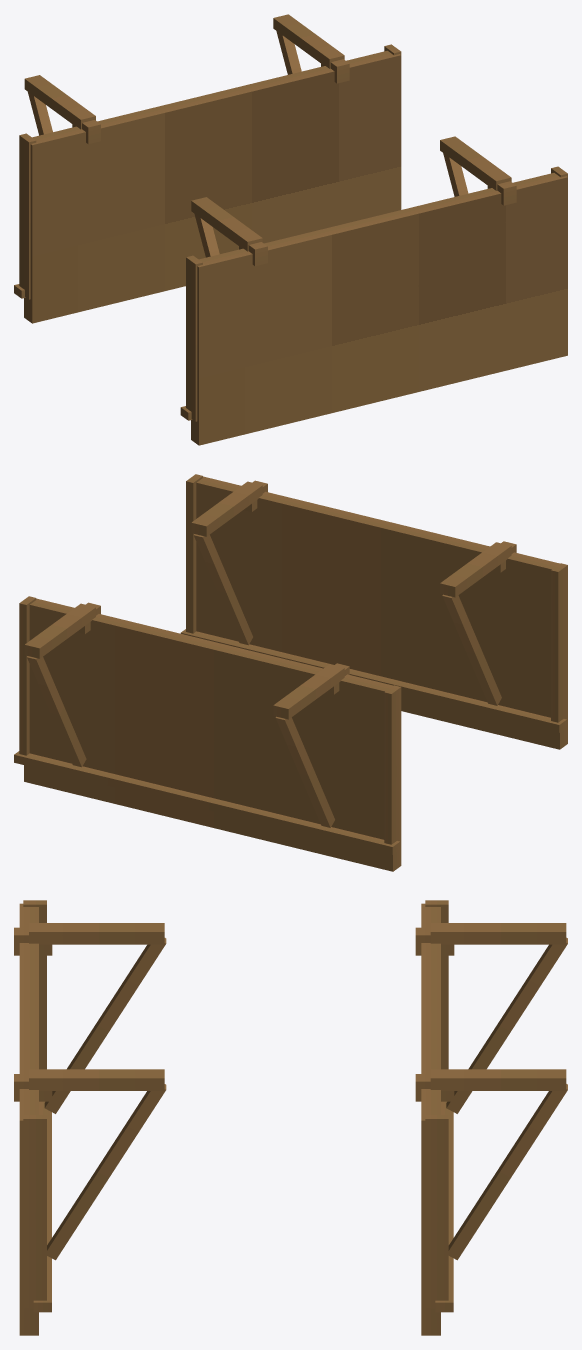
Rendered from wall_shelves_empty.obj.
3 renders of one model, top to bottom at view 1: azimuth 30°, elevation 25°; view 2: azimuth 150°, elevation 25°; view 3: azimuth 270°, elevation 25°, orthographic. The views are drawn at different scales.
Parts seen in each view (by area): view 1: wall_shelves_empty; view 2: wall_shelves_empty; view 3: wall_shelves_empty.
Part boxes in pixels (box(x1,y1,x2,y2)): wall_shelves_empty: box(14, 14, 567, 445); wall_shelves_empty: box(14, 474, 567, 871); wall_shelves_empty: box(14, 900, 567, 1335).
Size of the model in its own units: 0.944 by 0.448 by 0.9929.
Materials: 1 (1 with a texture image).
